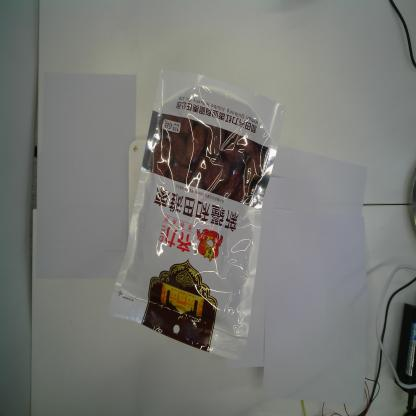Dried Food: (107, 65, 289, 365)
